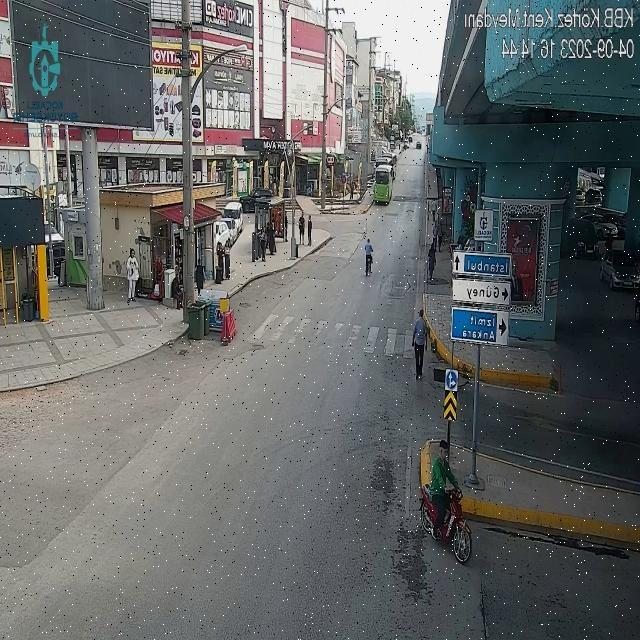Bus: (372, 164, 394, 206)
Car: (240, 189, 273, 213)
Cycle: (418, 481, 475, 566)
